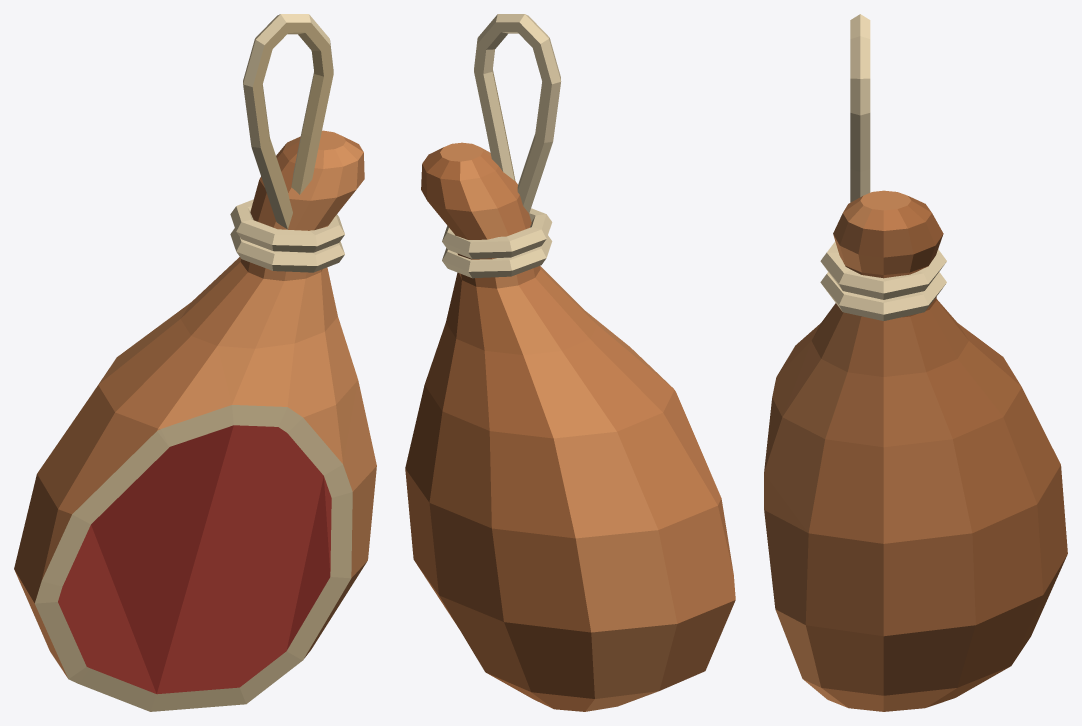
Rendered from FMS_Workshop_PRD_17.fbx.
The picture shows the model from 3 angles, left to right: view 1: azimuth 30°, elevation 25°; view 2: azimuth 150°, elevation 25°; view 3: azimuth 270°, elevation 25°; orthographic projection. The views are drawn at different scales.
Visible parts, largest first — view 1: FMS_Workshop_PRD_17_Body; view 2: FMS_Workshop_PRD_17_Body; view 3: FMS_Workshop_PRD_17_Body.
Boxes of the visible parts, x1,y1,x2,y2 form: FMS_Workshop_PRD_17_Body: [14, 14, 376, 711]; FMS_Workshop_PRD_17_Body: [405, 14, 735, 711]; FMS_Workshop_PRD_17_Body: [764, 14, 1067, 711].
Size of the model in its own units: 0.2052 by 0.4025 by 0.1558.
